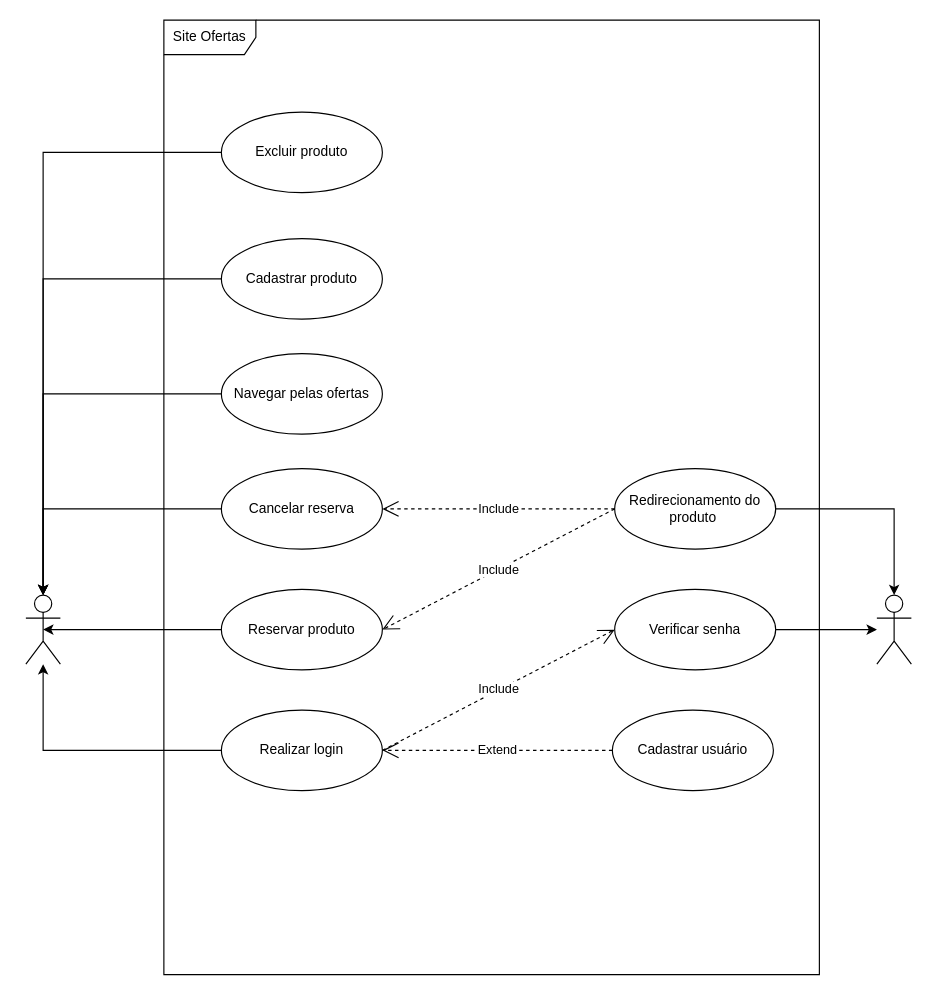
Image size: 938x995. Some labels were removed from this diagram. The box of each missing label's shape, as (x1, y1, x2, y2) in pixels:
Sistema: (876, 594, 911, 664)
Usuário: (25, 594, 60, 664)
